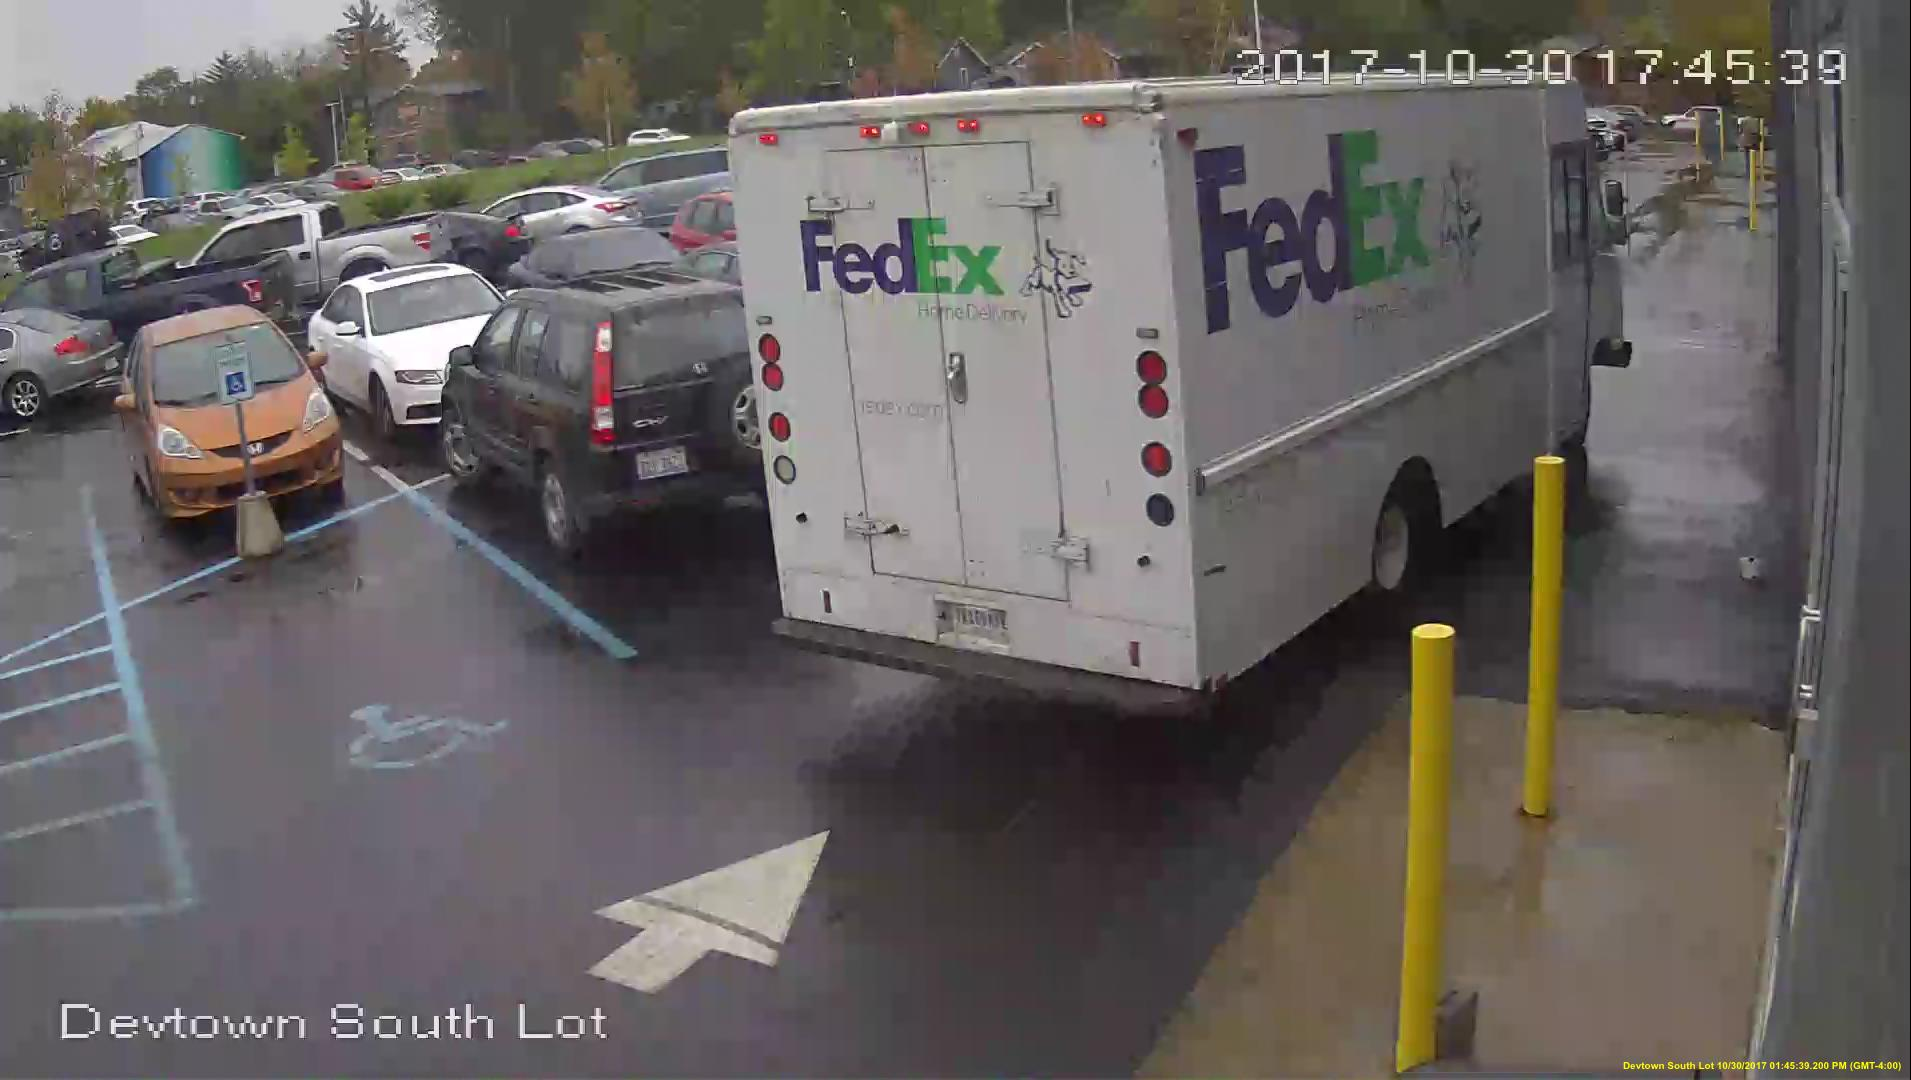fedex_truck: (742, 66, 1624, 705)
